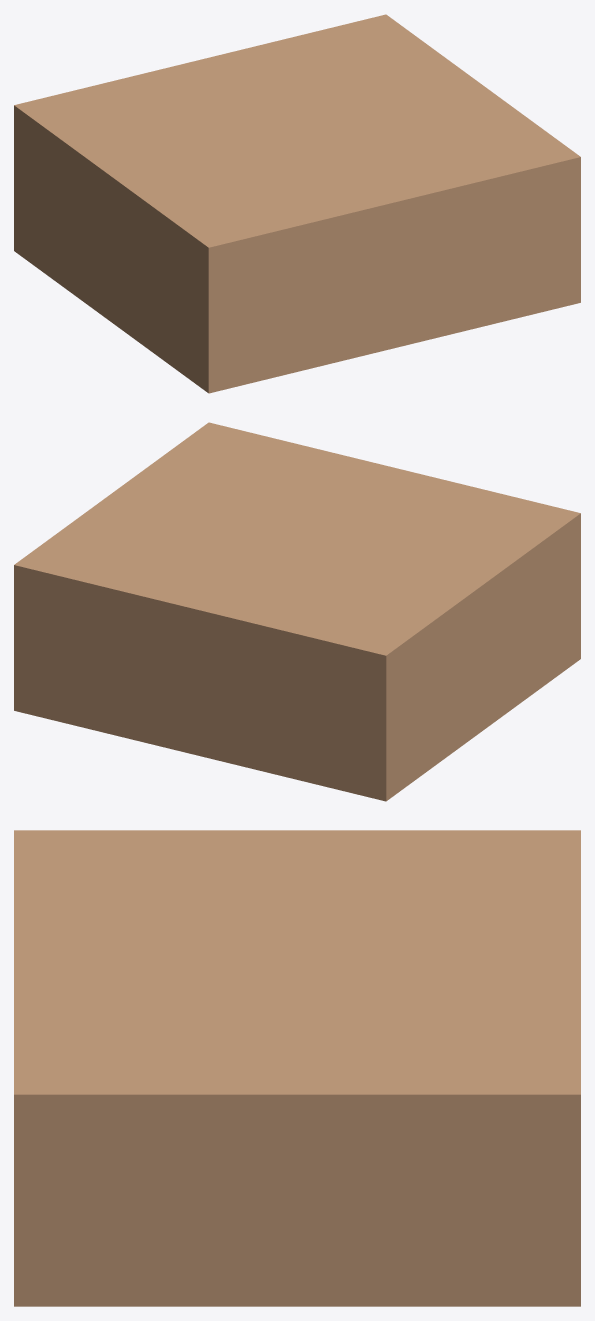
File: terrain_bush_flower_lod2.glb
The picture shows the model from 3 angles, top to bottom: view 1: azimuth 30°, elevation 25°; view 2: azimuth 150°, elevation 25°; view 3: azimuth 270°, elevation 25°; orthographic projection. The views are drawn at different scales.
Parts seen in each view (by area): view 1: terrain_bush_flower_lod2; view 2: terrain_bush_flower_lod2; view 3: terrain_bush_flower_lod2.
Boxes of the visible parts, x1=… form: terrain_bush_flower_lod2: x1=14, y1=14, x2=580, y2=393; terrain_bush_flower_lod2: x1=14, y1=422, x2=580, y2=801; terrain_bush_flower_lod2: x1=14, y1=830, x2=580, y2=1306.
Bounding box in the file's own units: 1.71 × 0.64 × 1.55.
